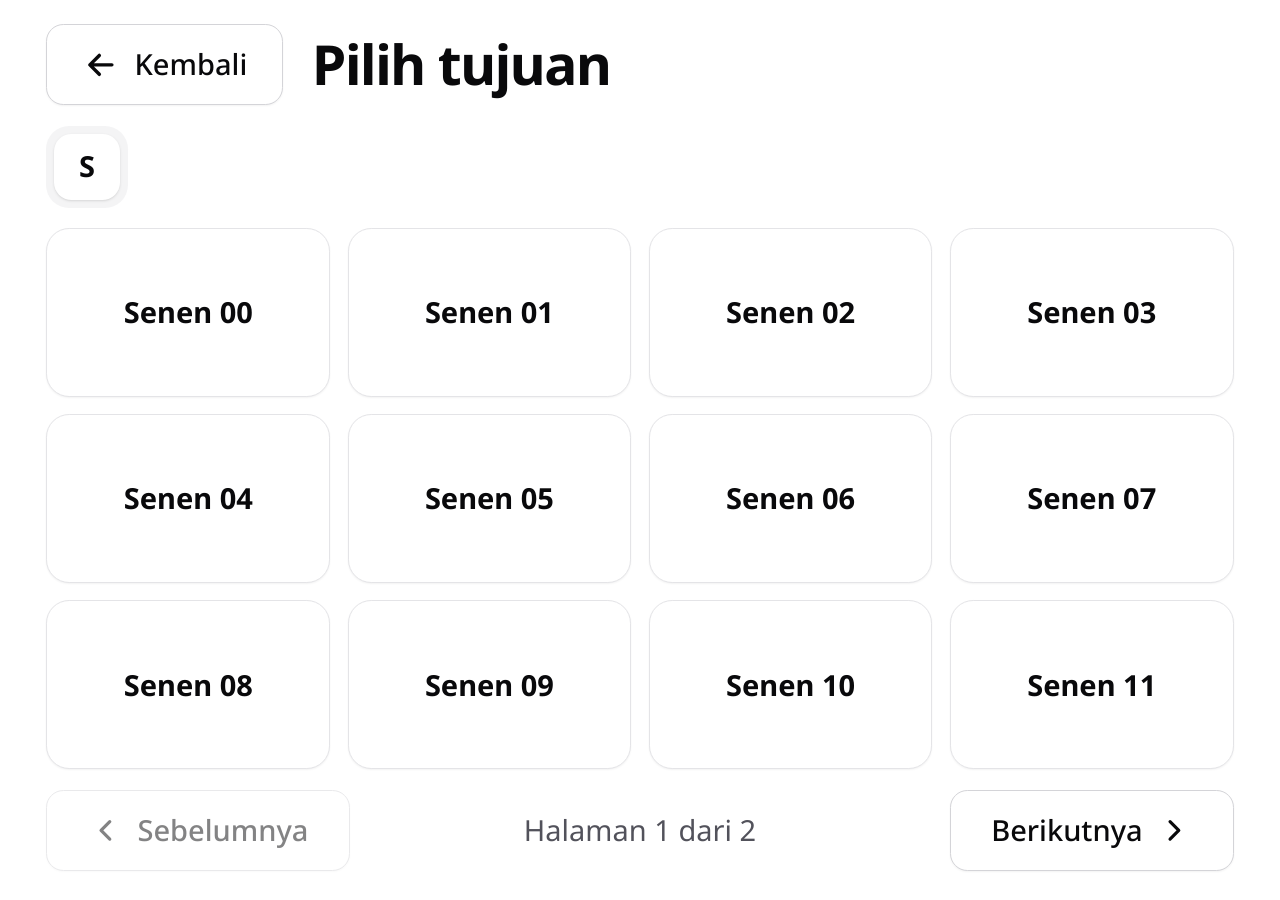
Scenario: PilihHalte › paging membagi halte per 12 dan menonaktifkan tombol di ujung
Expected: the text "Halaman 1 dari 2" is shown, [524,808,756,852]
Expected: the button "Sebelumnya" is disabled, [46,790,350,871]
Click the button "Berikutnya": click(1092, 830) [950,790,1234,871]
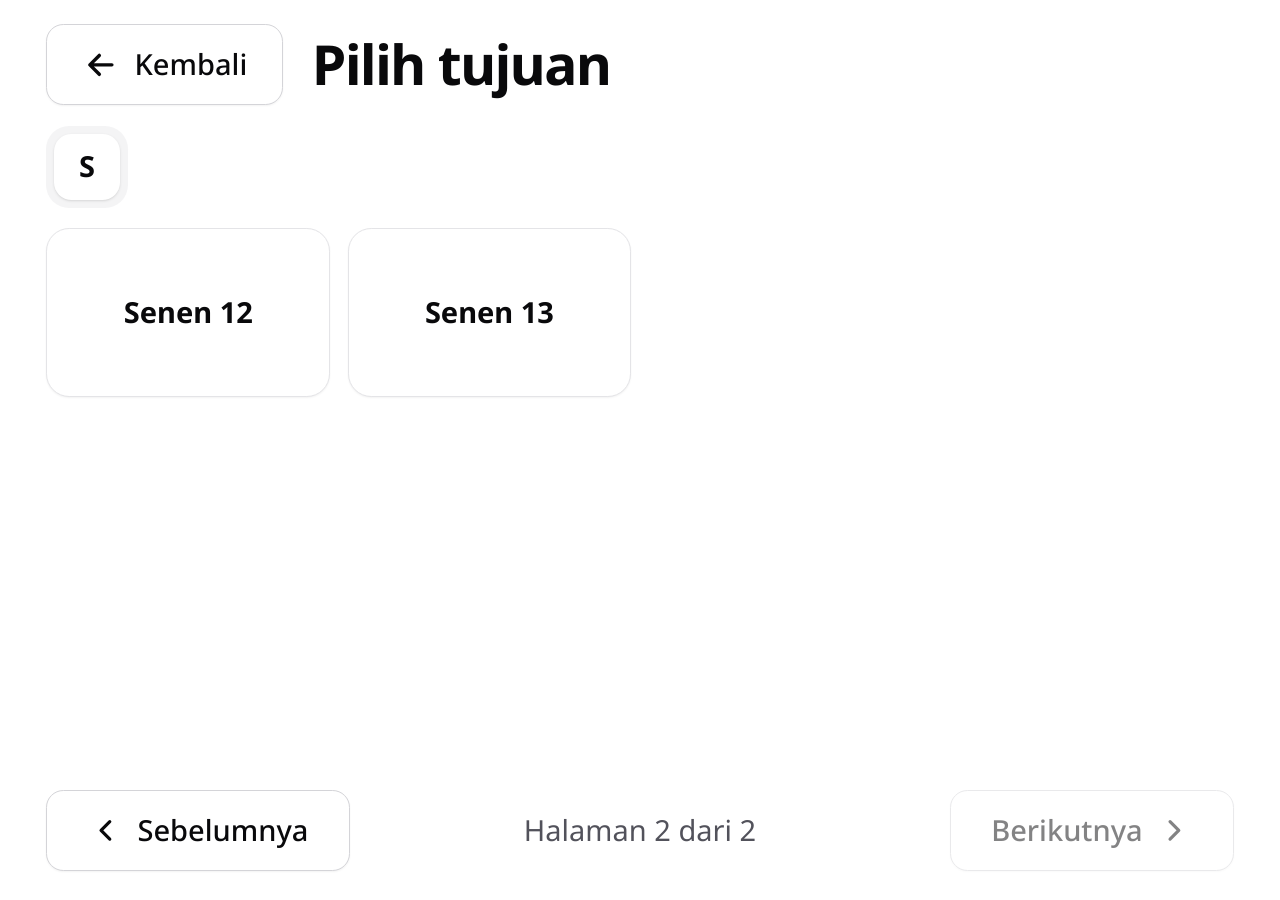
Expected: the text "Halaman 2 dari 2" is shown, [524,808,756,852]
Expected: the button "Berikutnya" is disabled, [950,790,1234,871]
